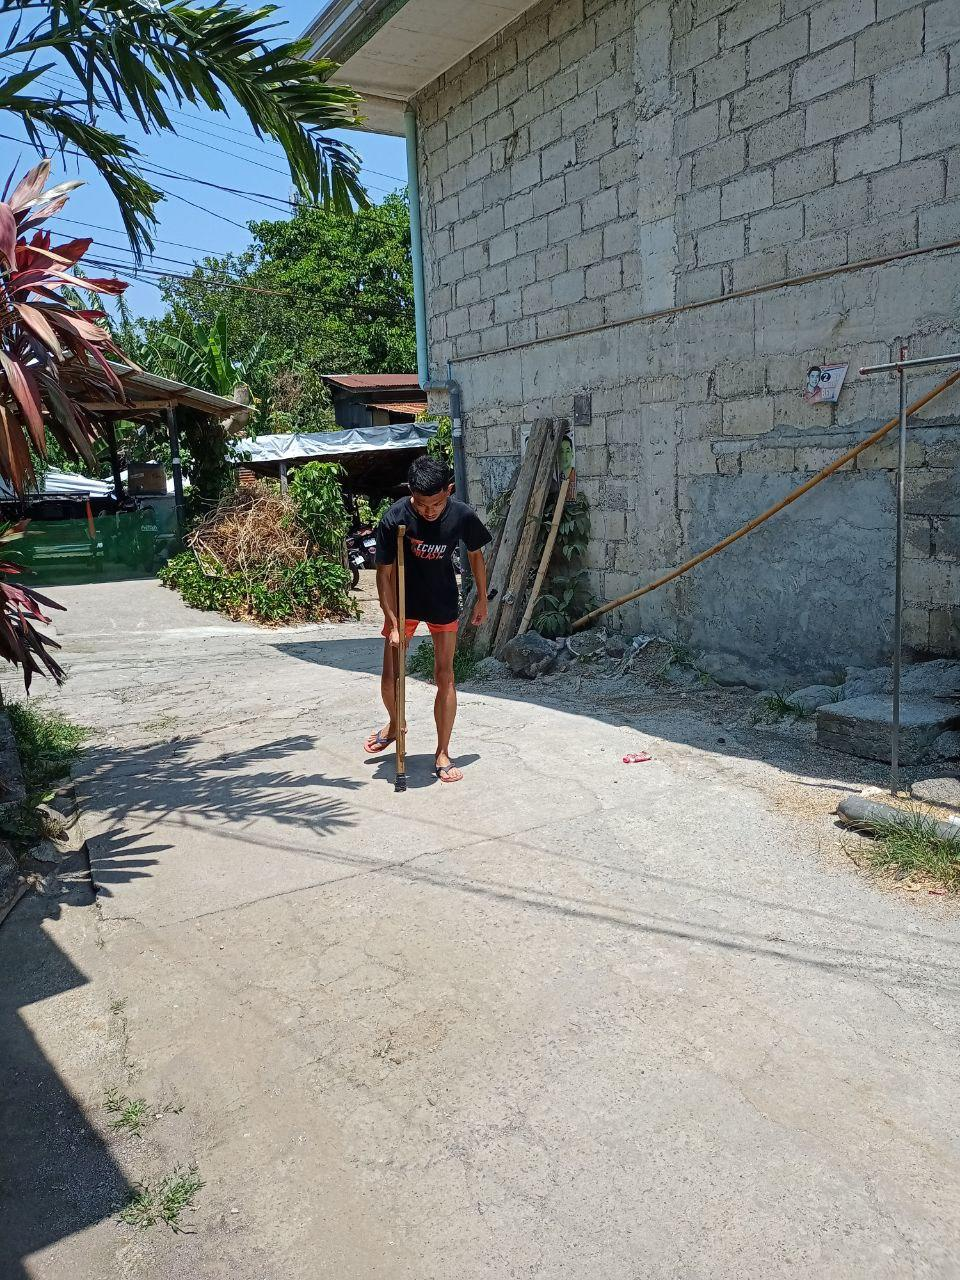crutches: (358, 445, 493, 794)
